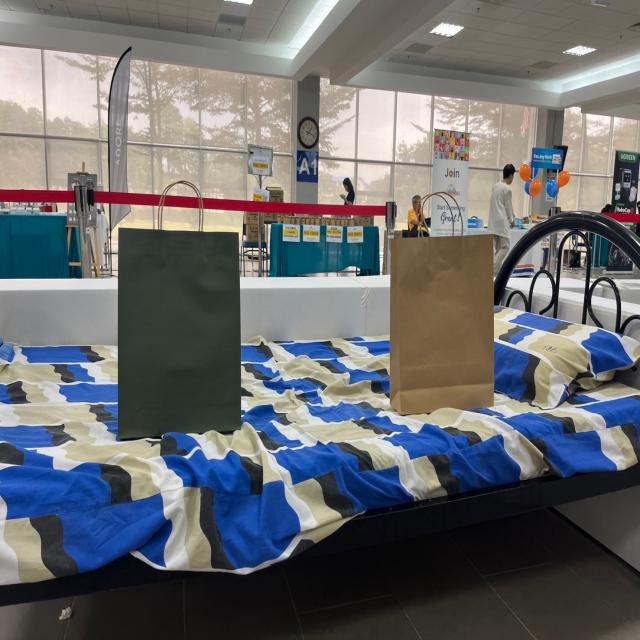bag: (395, 168, 492, 411), (134, 178, 225, 416)
